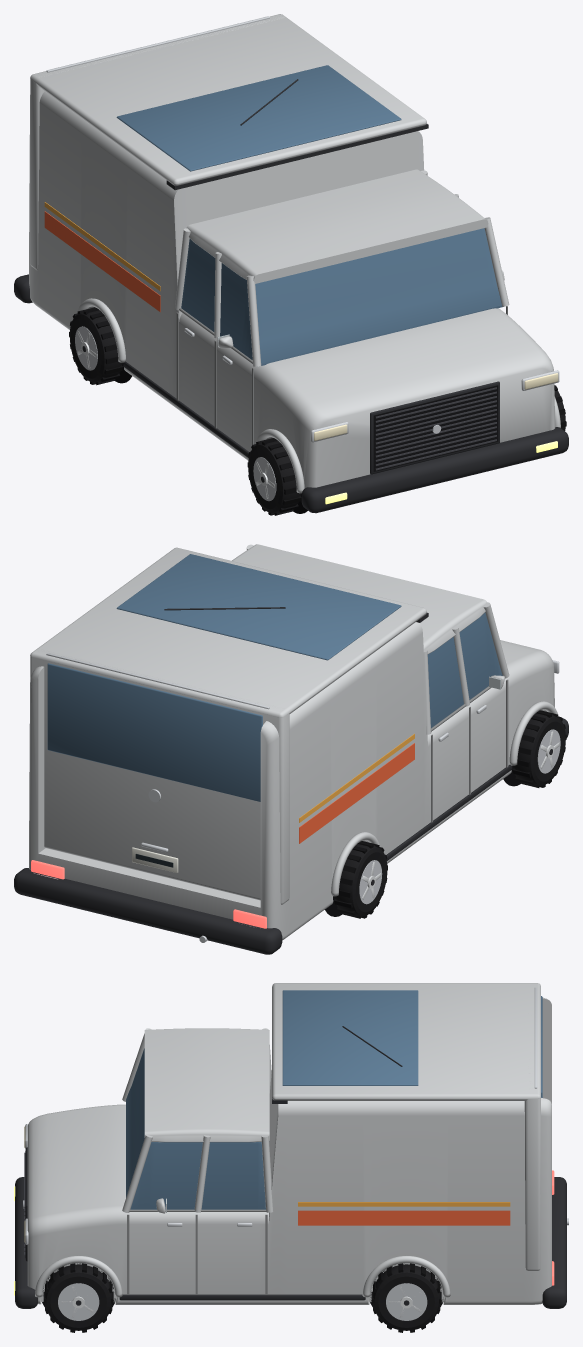
Rendered from house.fbx.
3 views of the same model, one above another, from view 1: azimuth 30°, elevation 25°; view 2: azimuth 150°, elevation 25°; view 3: azimuth 270°, elevation 25° (orthographic). The views are drawn at different scales.
Visible parts, largest first — view 1: Body, Lid, Wheel_3, Wheel_1, LidFlap; view 2: Body, LidFlap, Lid, Wheel_1, Wheel_3; view 3: Body, Lid, Wheel_0, Wheel_2, LidFlap.
Part boxes in pixels (left/top/right/bottom): Body: left=14, top=91, right=568, bottom=513; Lid: left=30, top=14, right=426, bottom=185; Wheel_3: left=247, top=438, right=301, bottom=515; Wheel_1: left=69, top=307, right=122, bottom=385; LidFlap: left=30, top=15, right=284, bottom=270; Body: left=14, top=544, right=568, bottom=954; LidFlap: left=30, top=648, right=289, bottom=904; Lid: left=30, top=547, right=426, bottom=717; Wheel_1: left=334, top=841, right=387, bottom=918; Wheel_3: left=512, top=710, right=566, bottom=787; Body: left=14, top=997, right=568, bottom=1308; Lid: left=272, top=983, right=540, bottom=1100; Wheel_0: left=371, top=1263, right=441, bottom=1332; Wheel_2: left=43, top=1263, right=113, bottom=1332; LidFlap: left=524, top=996, right=542, bottom=1270.
Size of the model in its own units: 6.5 by 5.56 by 11.76.
